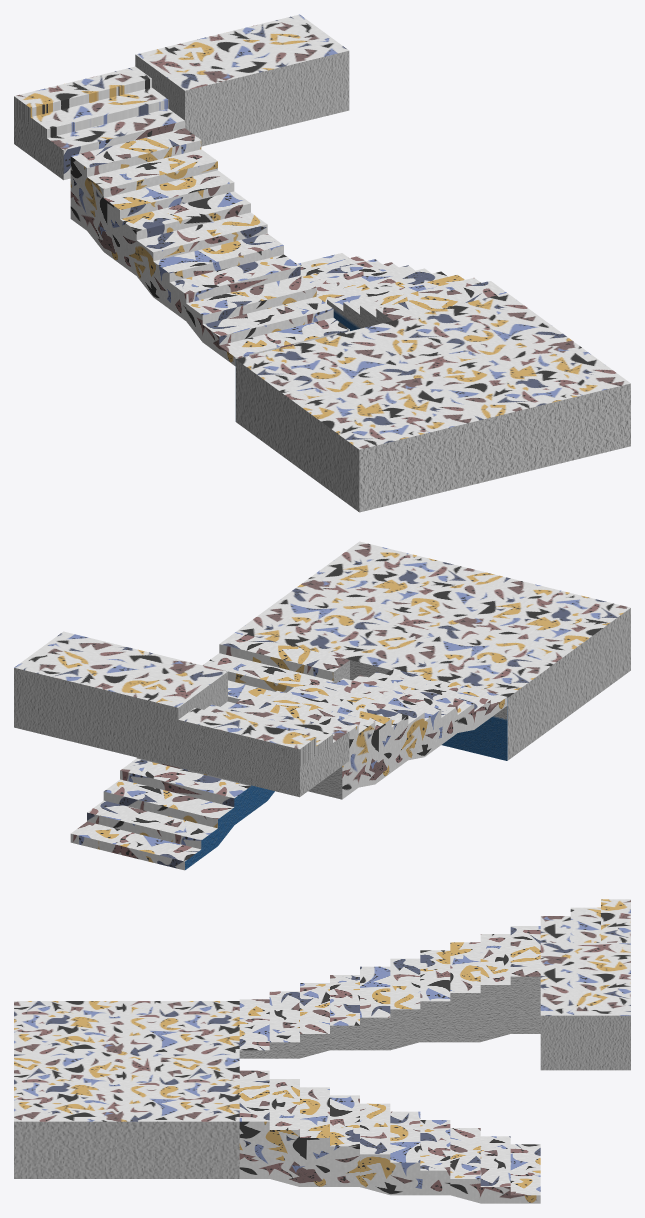
Rendered from stairs_left.fbx.
The picture shows the model from 3 angles, top to bottom: view 1: azimuth 30°, elevation 25°; view 2: azimuth 150°, elevation 25°; view 3: azimuth 270°, elevation 25°; orthographic projection. The views are drawn at different scales.
Parts seen in each view (by area): view 1: stairs_left; view 2: stairs_left; view 3: stairs_left.
Boxes of the visible parts, box(x1,y1,x2,y2) form: stairs_left: box(14, 14, 630, 512); stairs_left: box(14, 541, 630, 870); stairs_left: box(14, 899, 630, 1203).
Bounding box in the file's own units: 1000 × 700 × 2050.
